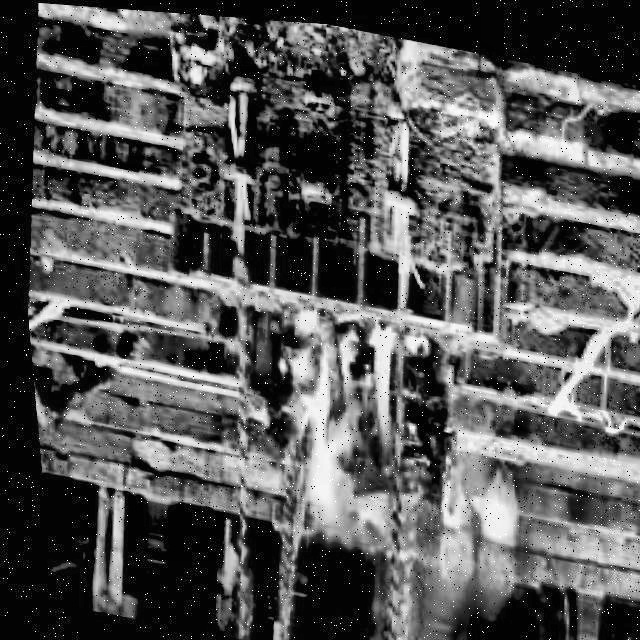Fire: (256, 294, 414, 558)
